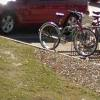Bicycle: (40, 10, 96, 73)
